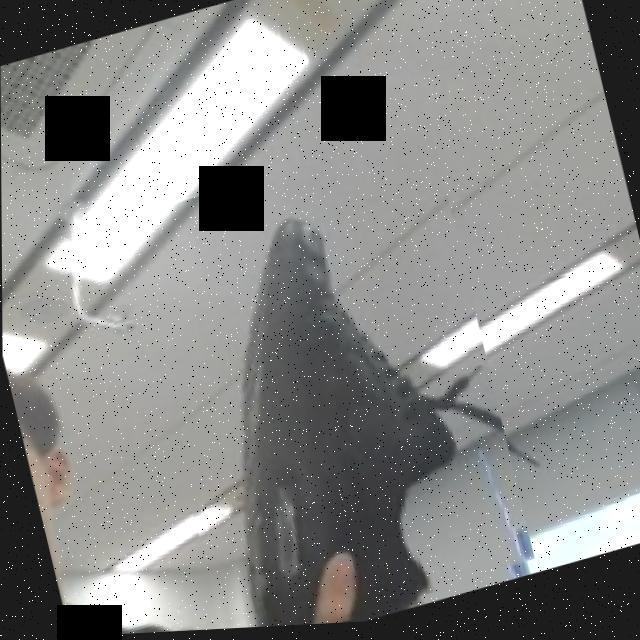shoe: (111, 130, 537, 636)
